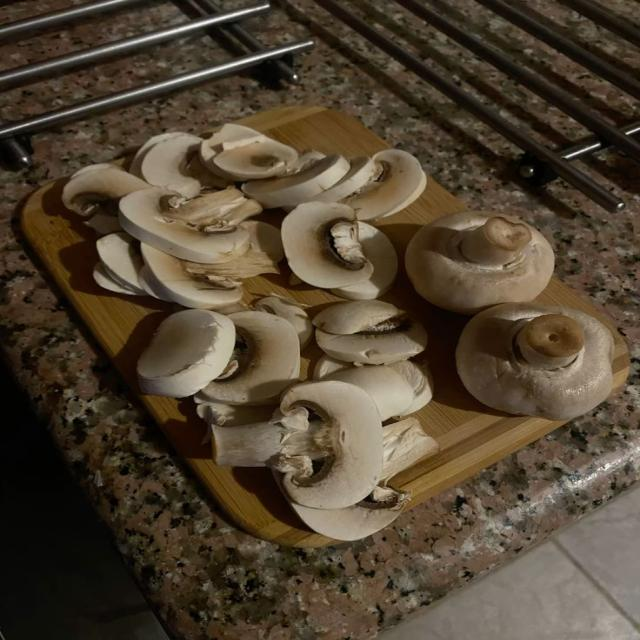champignon mushrooms: (214, 381, 382, 508), (456, 304, 613, 420), (290, 419, 439, 540), (406, 212, 553, 313), (120, 188, 250, 263), (200, 311, 299, 404), (138, 310, 235, 397), (281, 203, 373, 288), (314, 301, 426, 364), (141, 243, 242, 309), (243, 154, 350, 208), (346, 150, 426, 220), (187, 221, 283, 279), (322, 365, 413, 421), (332, 222, 397, 299), (162, 188, 261, 232), (62, 166, 148, 216), (140, 134, 201, 198), (212, 138, 298, 180), (254, 295, 313, 349), (377, 360, 433, 416), (96, 232, 146, 294), (200, 124, 267, 170), (194, 394, 276, 429), (314, 157, 376, 201), (388, 360, 433, 416), (129, 132, 185, 177), (243, 220, 284, 262), (93, 263, 140, 294), (139, 265, 172, 302), (313, 355, 350, 379), (84, 213, 121, 235), (70, 164, 121, 178)
